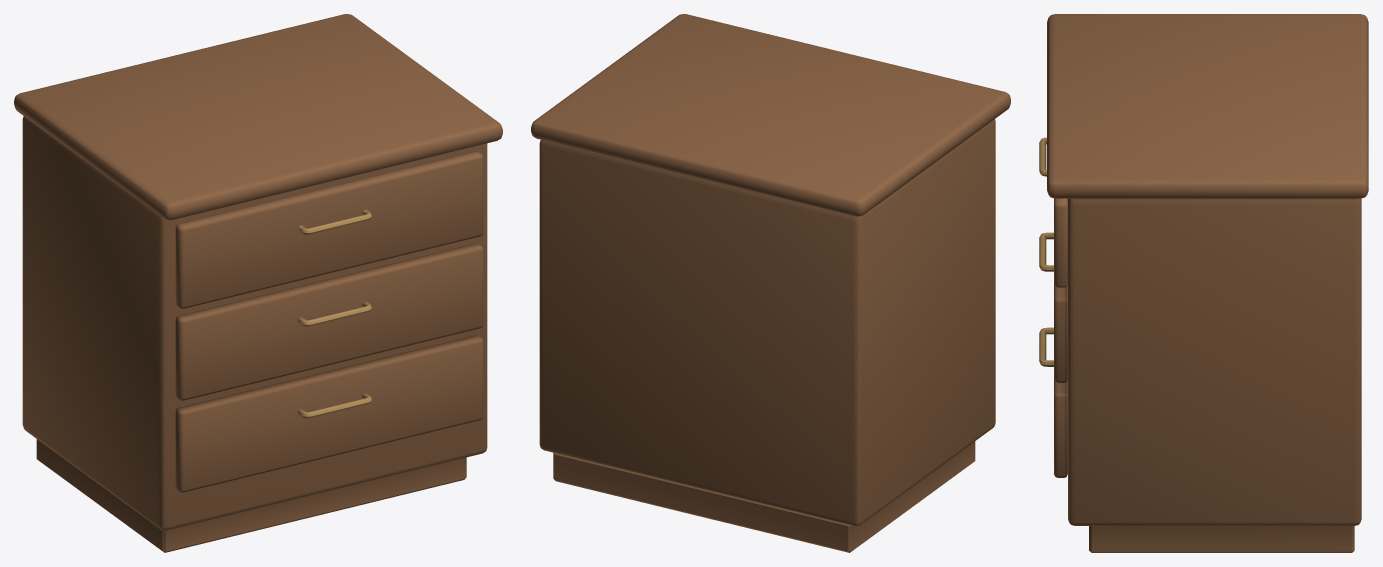
Rendered from nightstandDrawers.glb.
3 renders of one model, left to right at view 1: azimuth 30°, elevation 25°; view 2: azimuth 150°, elevation 25°; view 3: azimuth 270°, elevation 25°, orthographic. The views are drawn at different scales.
Parts seen in each view (by area): view 1: nightstandDrawers, drawer; view 2: nightstandDrawers; view 3: nightstandDrawers, drawer.
Part boxes in pixels (box(x1,y1,x2,y2)): nightstandDrawers: box(14, 14, 502, 552); drawer: box(175, 151, 483, 308); nightstandDrawers: box(531, 14, 1010, 552); nightstandDrawers: box(1039, 14, 1368, 552); drawer: box(1039, 137, 1067, 287).
Size of the model in its own units: 0.58 by 0.6 by 0.471.
